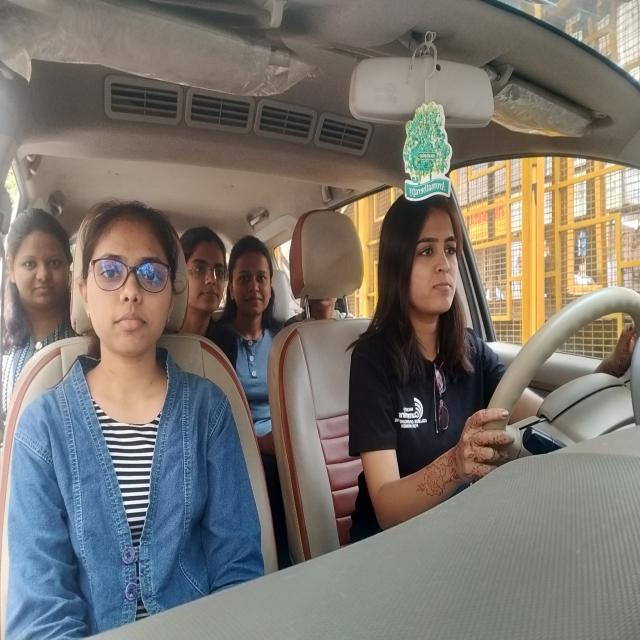person: (88, 211, 172, 348), (385, 203, 462, 323), (18, 216, 68, 304), (188, 229, 228, 307), (241, 237, 279, 316)
